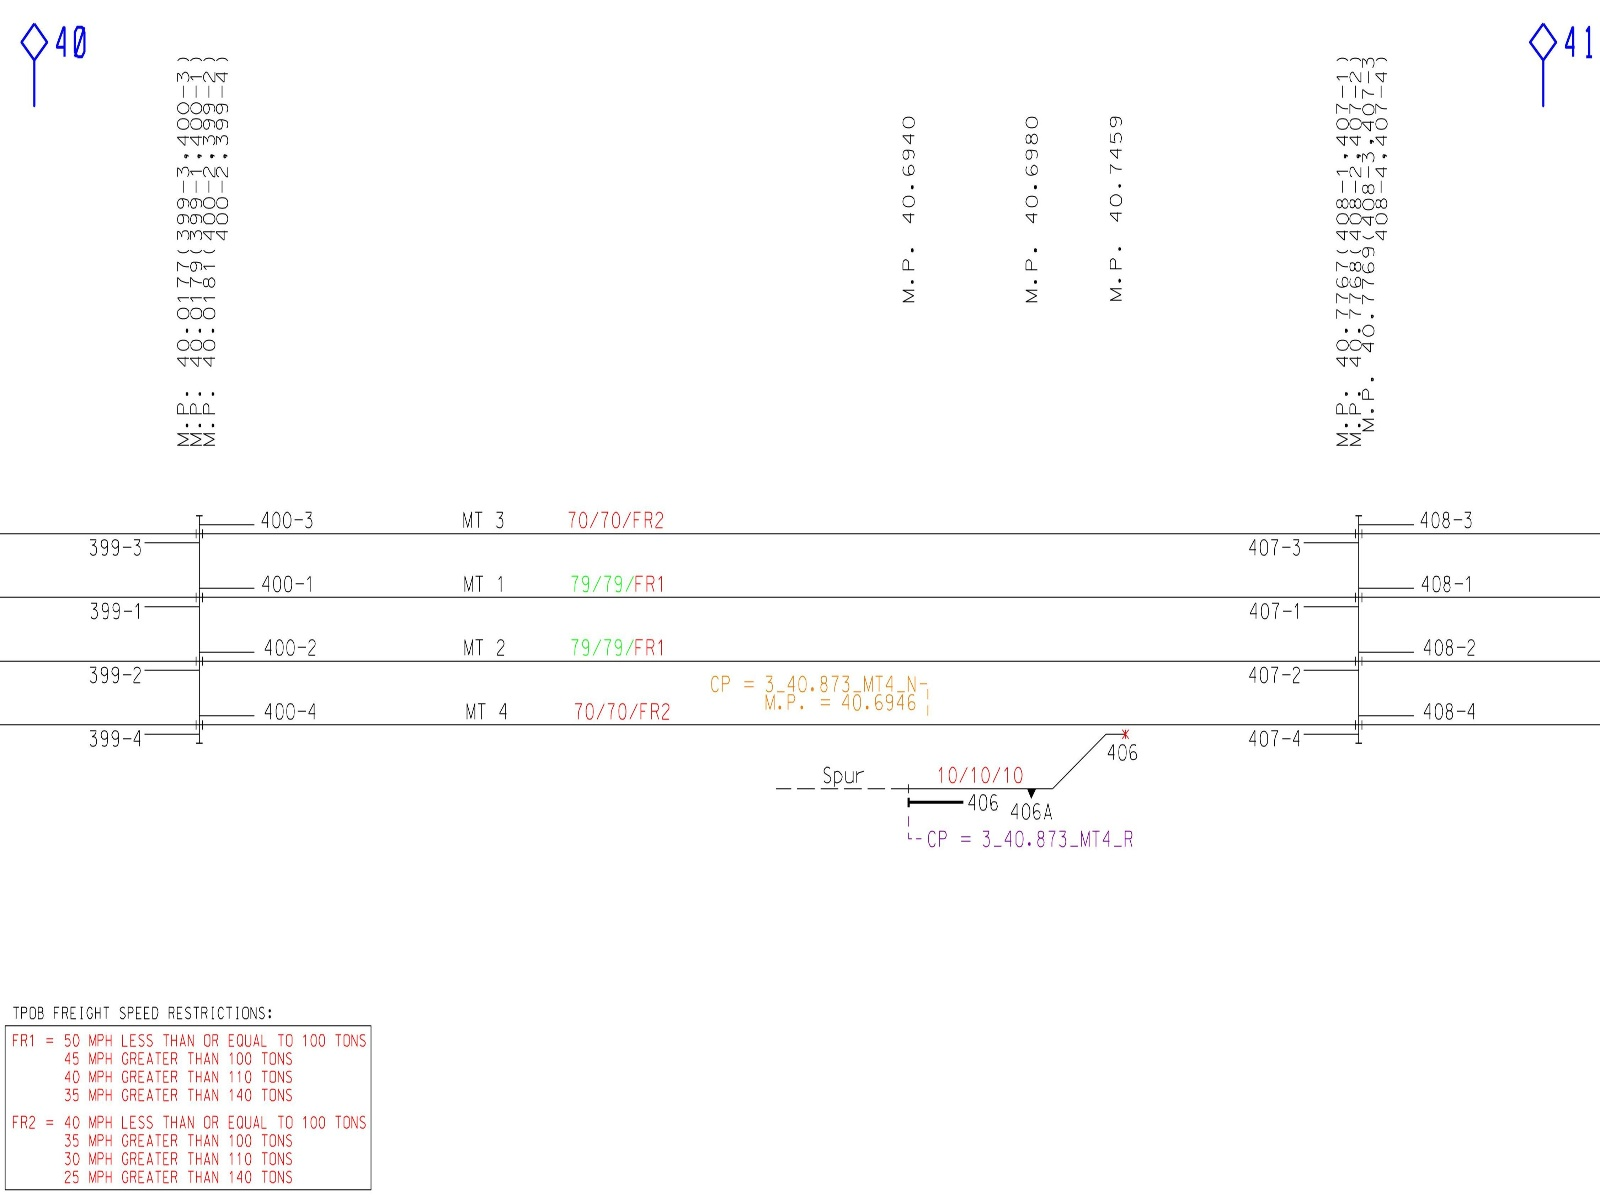controlpoint: (708, 654, 939, 720)
leftsignal: (897, 780, 1008, 822)
longMilepost: (165, 44, 234, 460), (1327, 47, 1395, 463)
milepost: (1083, 92, 1151, 328), (878, 92, 945, 328), (997, 92, 1063, 328)
